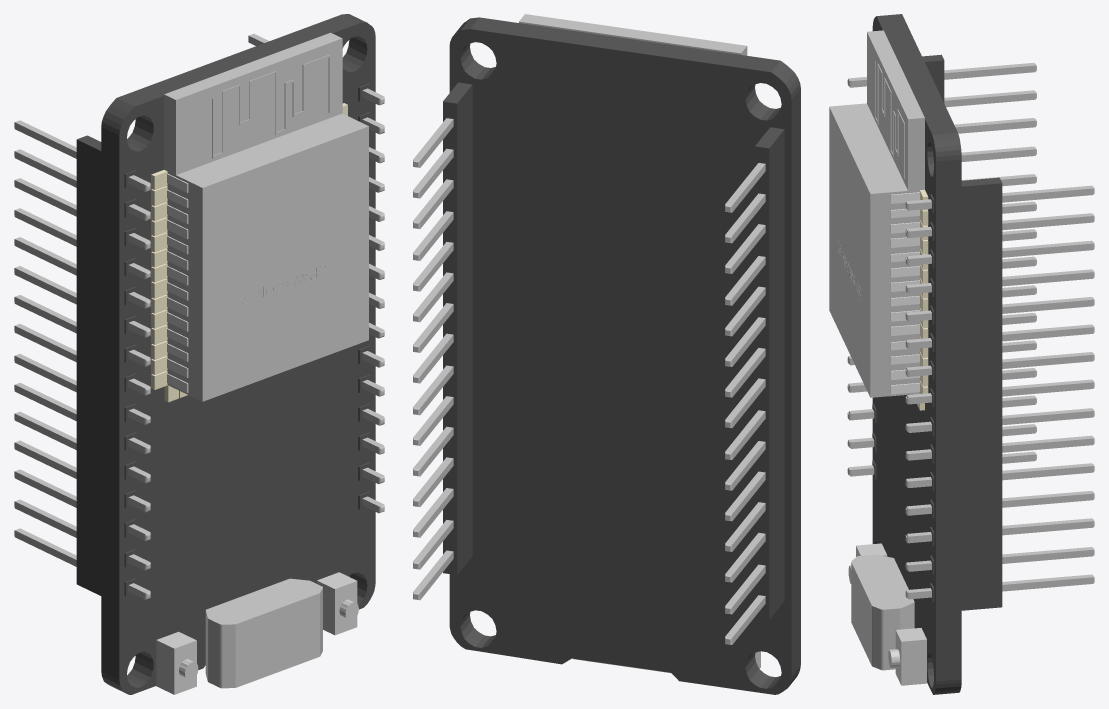
Rendered from esp32.glb.
The picture shows the model from 3 angles, left to right: view 1: azimuth 30°, elevation 25°; view 2: azimuth 150°, elevation 25°; view 3: azimuth 270°, elevation 25°; orthographic projection. The views are drawn at different scales.
Parts seen in each view (by area): view 1: imagetostl_mesh2; view 2: imagetostl_mesh2; view 3: imagetostl_mesh2.
Part boxes in pixels (<box>): imagetostl_mesh2: <box>14,14,384,694</box>; imagetostl_mesh2: <box>413,14,800,694</box>; imagetostl_mesh2: <box>829,14,1094,694</box>.
Bounding box in the file's own units: 1.92 × 3.53 × 1.5.
